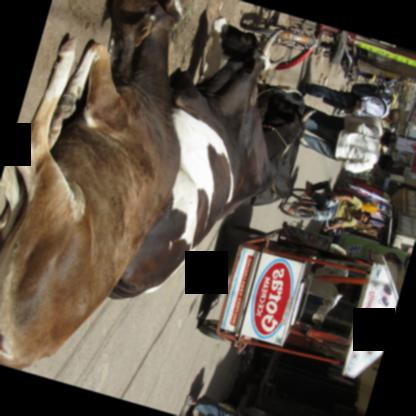backpack: (350, 82, 386, 116)
